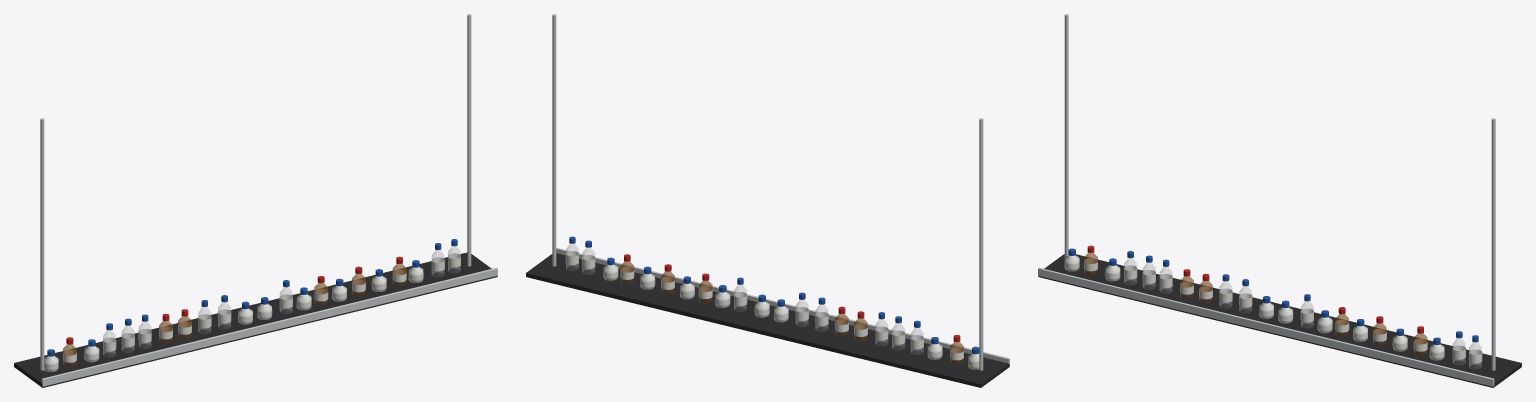
The model's file is reagent-shelf.glb.
3 views of the same model, side by side, from view 1: azimuth 30°, elevation 25°; view 2: azimuth 150°, elevation 25°; view 3: azimuth 330°, elevation 25° (orthographic).
Parts seen in each view (by area): view 1: shelf_plank, shelf_lip, hanging_rod.001, hanging_rod; view 2: shelf_plank, shelf_lip, hanging_rod, hanging_rod.001; view 3: shelf_plank, shelf_lip, hanging_rod.001, hanging_rod.
Part boxes in pixels (bbox=[...]): shelf_plank: bbox=[14, 252, 497, 387]; shelf_lip: bbox=[41, 267, 497, 386]; hanging_rod.001: bbox=[467, 14, 471, 266]; hanging_rod: bbox=[40, 118, 44, 370]; shelf_plank: bbox=[526, 253, 1009, 387]; shelf_lip: bbox=[556, 247, 1009, 365]; hanging_rod: bbox=[979, 118, 983, 370]; hanging_rod.001: bbox=[552, 14, 556, 266]; shelf_plank: bbox=[1038, 254, 1521, 387]; shelf_lip: bbox=[1038, 267, 1494, 386]; hanging_rod.001: bbox=[1491, 118, 1495, 370]; hanging_rod: bbox=[1064, 14, 1068, 257].
Size of the model in its own units: 3.2 by 1.75 by 0.3524.
